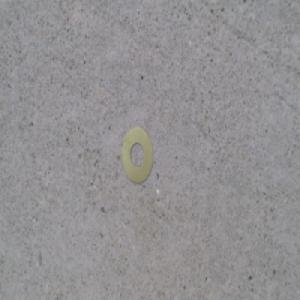Washer: (122, 125, 155, 185)
